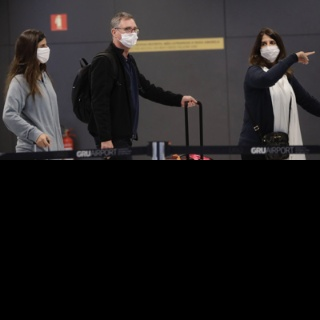with_mask: (116, 24, 140, 48), (258, 37, 280, 62), (36, 41, 51, 64)
